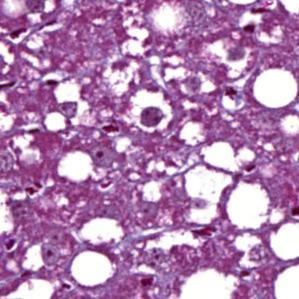steatosis: (69, 249, 118, 286)
